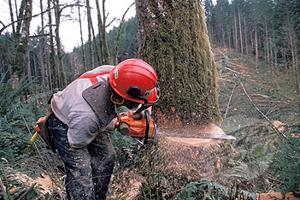person: (33, 58, 159, 200)
